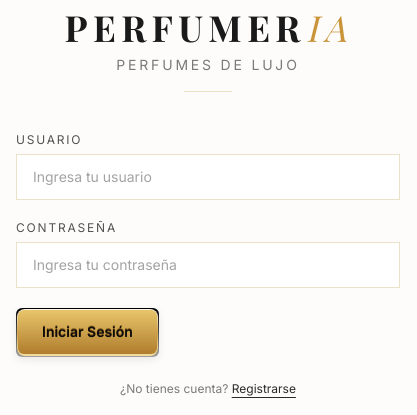
Test case: Login Component › should show register form when toggle is clicked
Click the button "Registrarse": (264,389) 232,381 -> 296,397
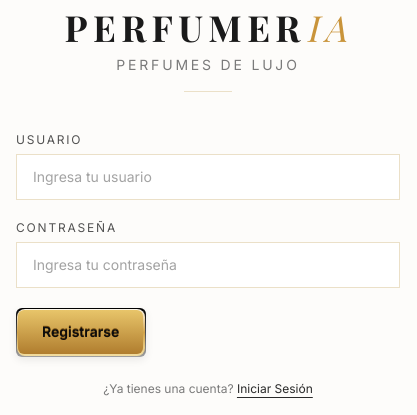
Expected: the button "Registrarse" is shown, 18,310 -> 144,354
